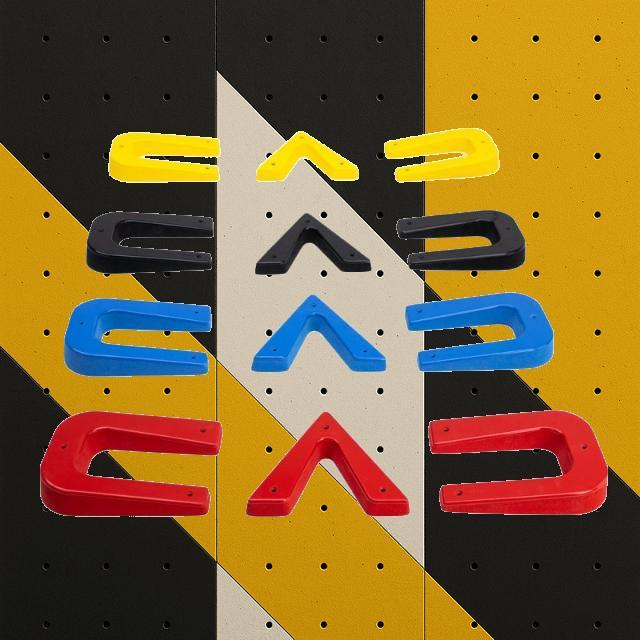Crimp: (38, 409, 222, 516), (428, 409, 608, 515), (245, 410, 409, 518), (404, 292, 554, 372), (63, 296, 211, 376), (250, 294, 386, 372), (86, 210, 214, 274), (395, 210, 525, 270), (254, 212, 370, 276), (383, 126, 499, 182), (108, 132, 220, 182), (255, 130, 358, 182)
